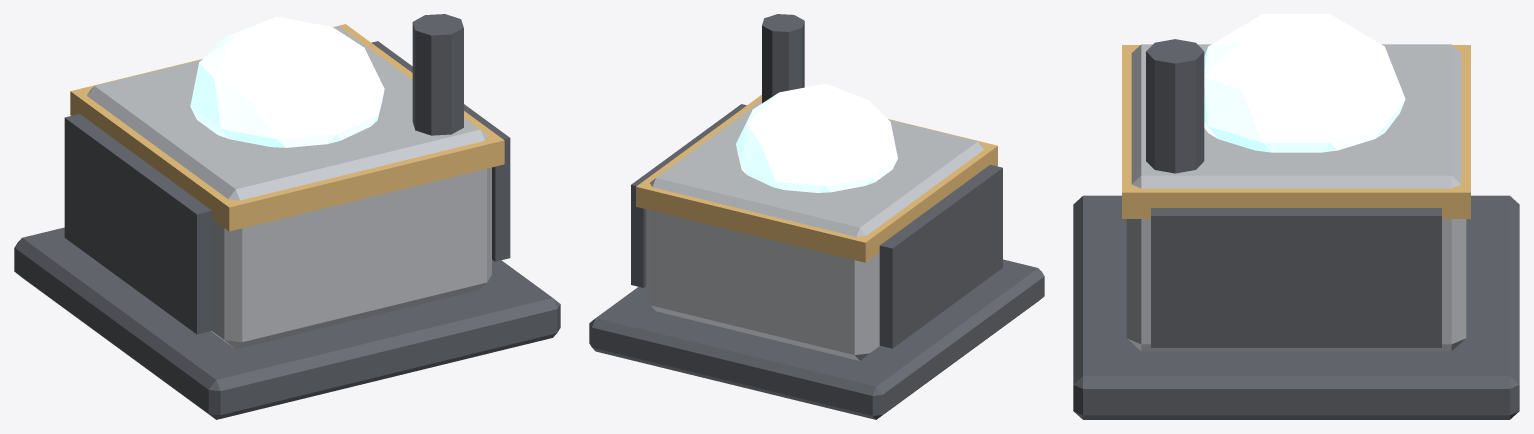
File: power_generator-DW4g5LW4.glb
The picture shows the model from 3 angles, left to right: view 1: azimuth 30°, elevation 25°; view 2: azimuth 150°, elevation 25°; view 3: azimuth 270°, elevation 25°; orthographic projection. The views are drawn at different scales.
Parts seen in each view (by area): view 1: slab; view 2: slab; view 3: slab.
Boxes of the visible parts, box(x1,y1,x2,y2) form: slab: box(14, 14, 560, 419); slab: box(589, 14, 1044, 419); slab: box(1073, 14, 1519, 419).
Size of the model in its own units: 1.84 by 1.5 by 1.84.
